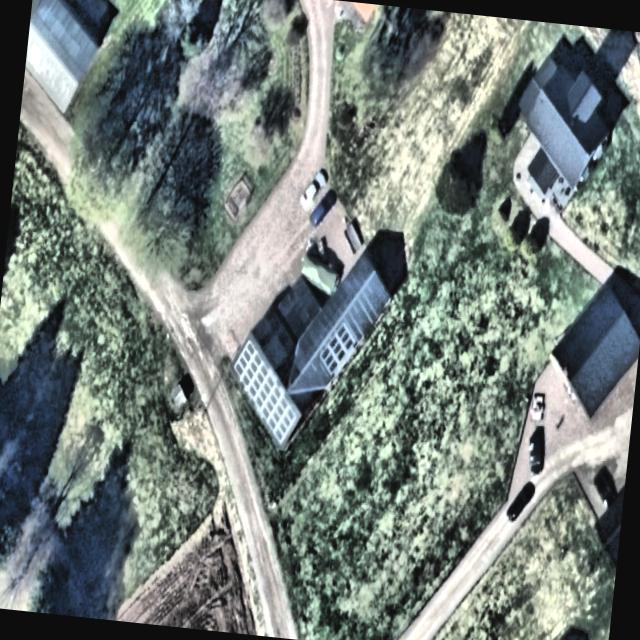roof_pv: (252, 374, 298, 441), (228, 336, 274, 399), (317, 320, 356, 378)
